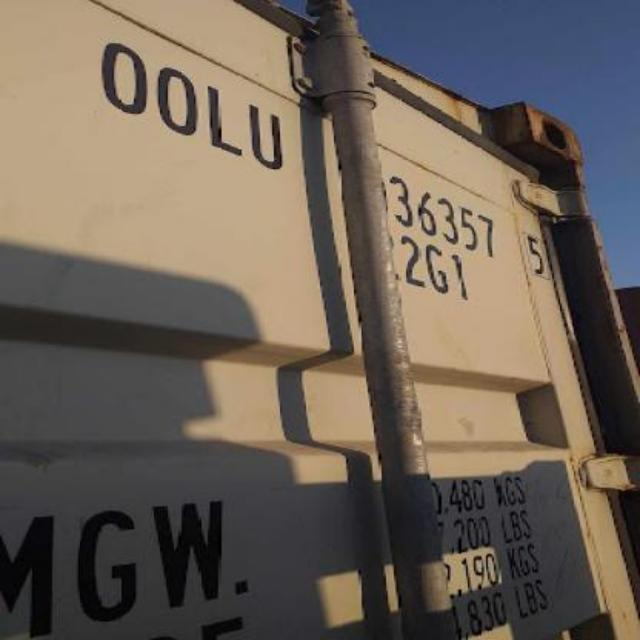3: (380, 170, 416, 232), (436, 190, 460, 244)
5: (518, 236, 552, 274), (458, 204, 482, 253)
6: (418, 186, 439, 242)
7: (476, 212, 504, 260)
L: (202, 78, 248, 160)
O: (92, 38, 152, 118), (152, 60, 205, 140)
U: (244, 100, 294, 176)
